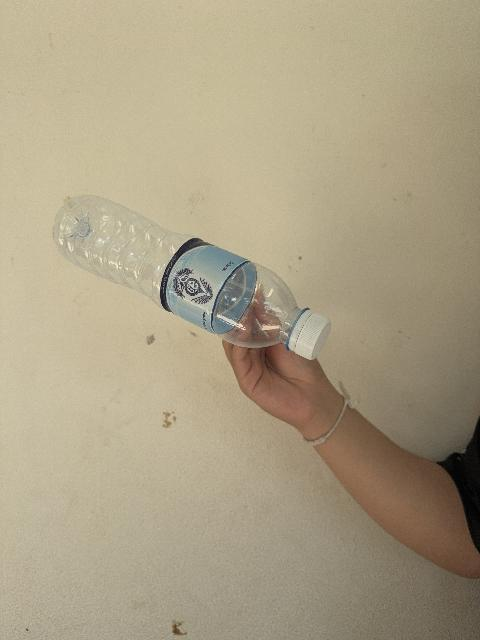bottle: (53, 196, 330, 359)
